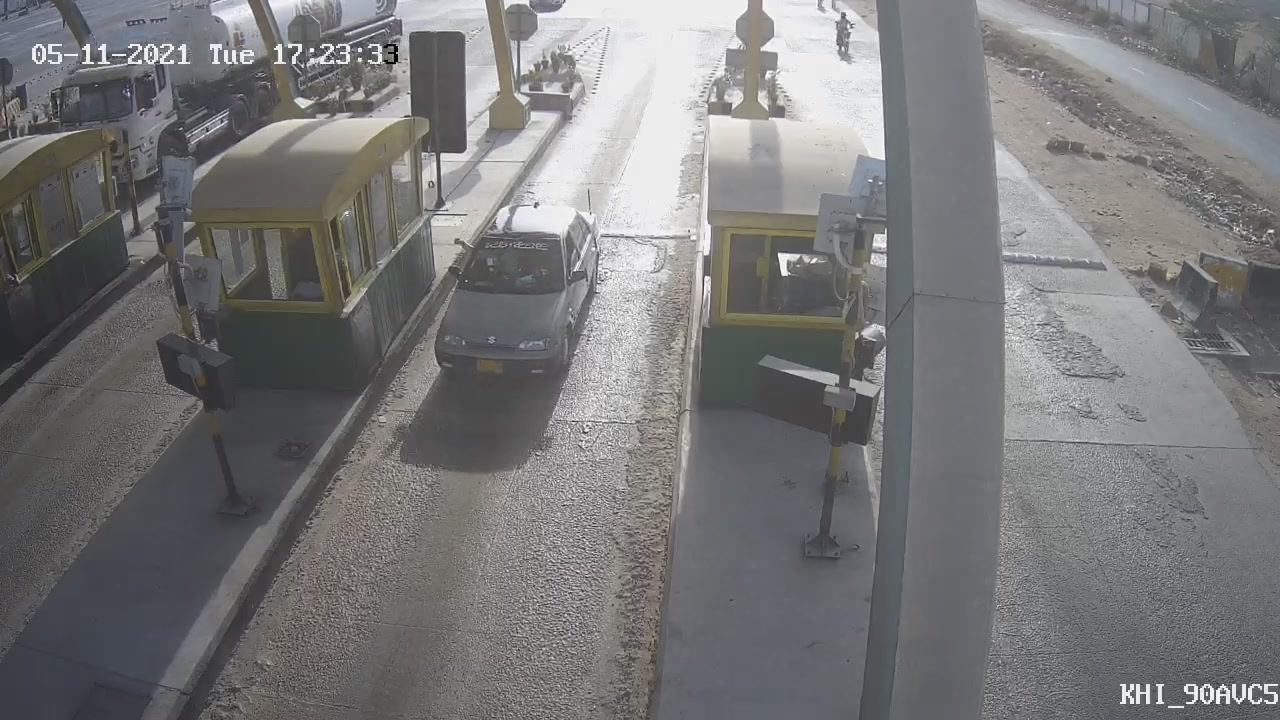F1: (414, 181, 618, 401)
